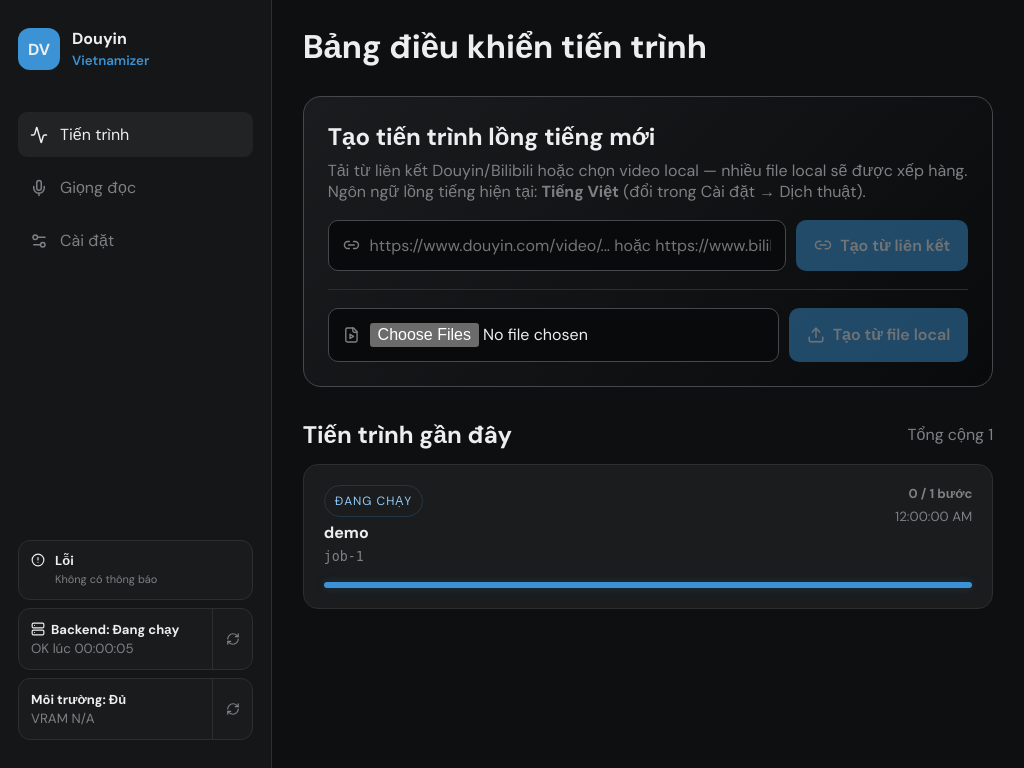
Test case: job details shows live elapsed time for running steps
Click the heading "demo".
click(346, 533)  # box [324,523,369,543]
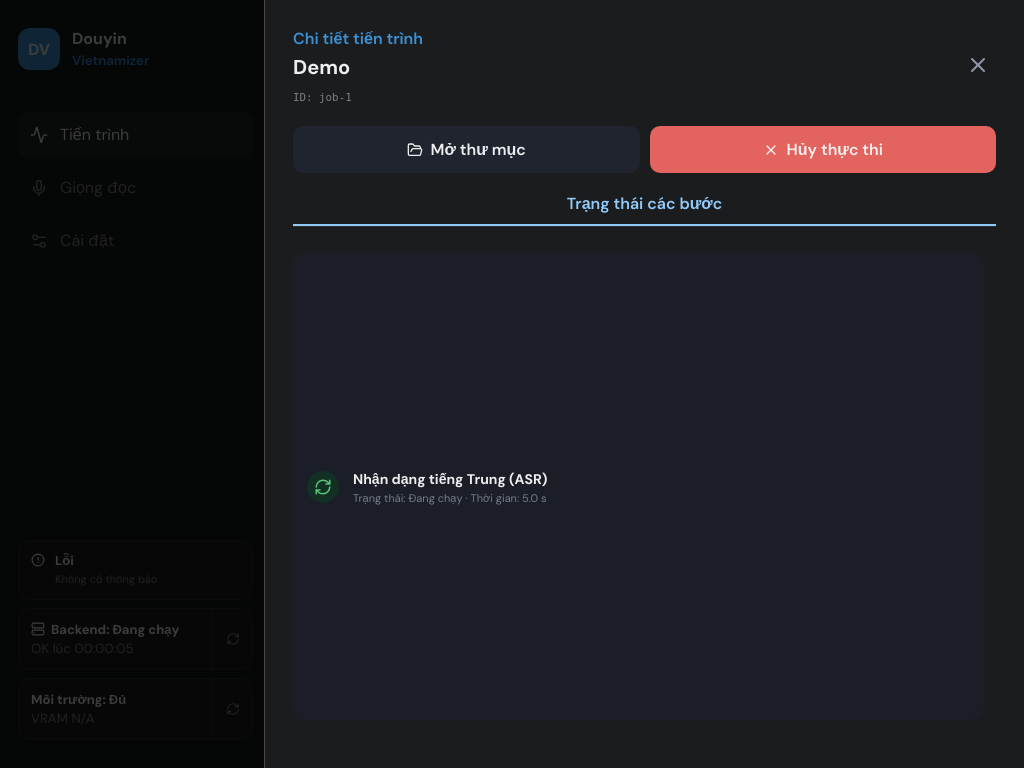
Expected: the text "Trạng thái: Đang chạy · Thời gian: 5.0 s" is shown, [353,491,546,505]
